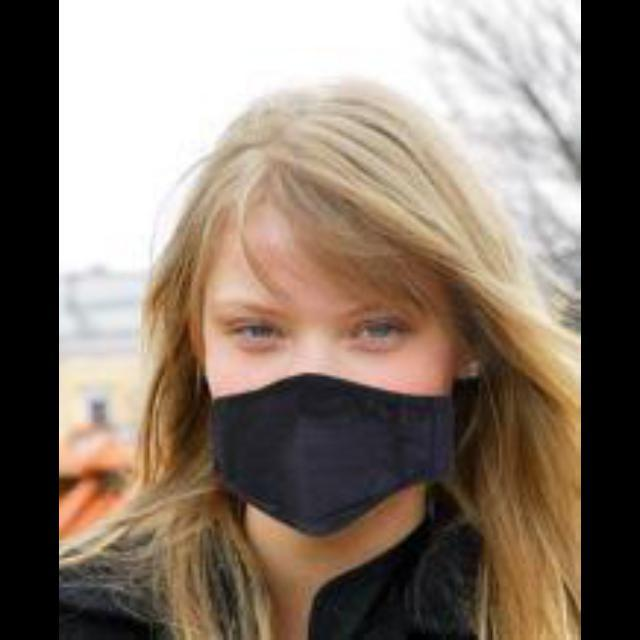suspicion: (149, 167, 521, 545)
